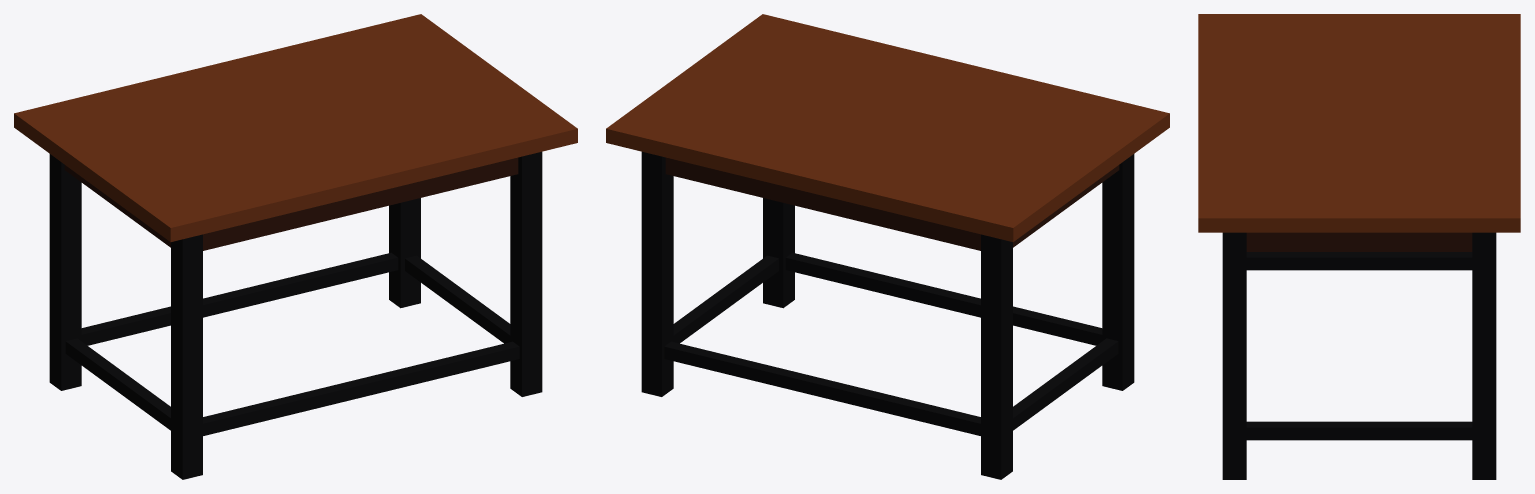
Rendered from table.glb.
3 renders of one model, left to right at view 1: azimuth 30°, elevation 25°; view 2: azimuth 150°, elevation 25°; view 3: azimuth 270°, elevation 25°, orthographic. The views are drawn at different scales.
Visible parts, largest first — view 1: table; view 2: table; view 3: table.
Boxes of the visible parts, x1,y1,x2,y2 form: table: [14, 14, 577, 479]; table: [606, 14, 1169, 479]; table: [1198, 14, 1520, 479].
Bounding box in the file's own units: 1.2 × 0.75 × 0.8.
